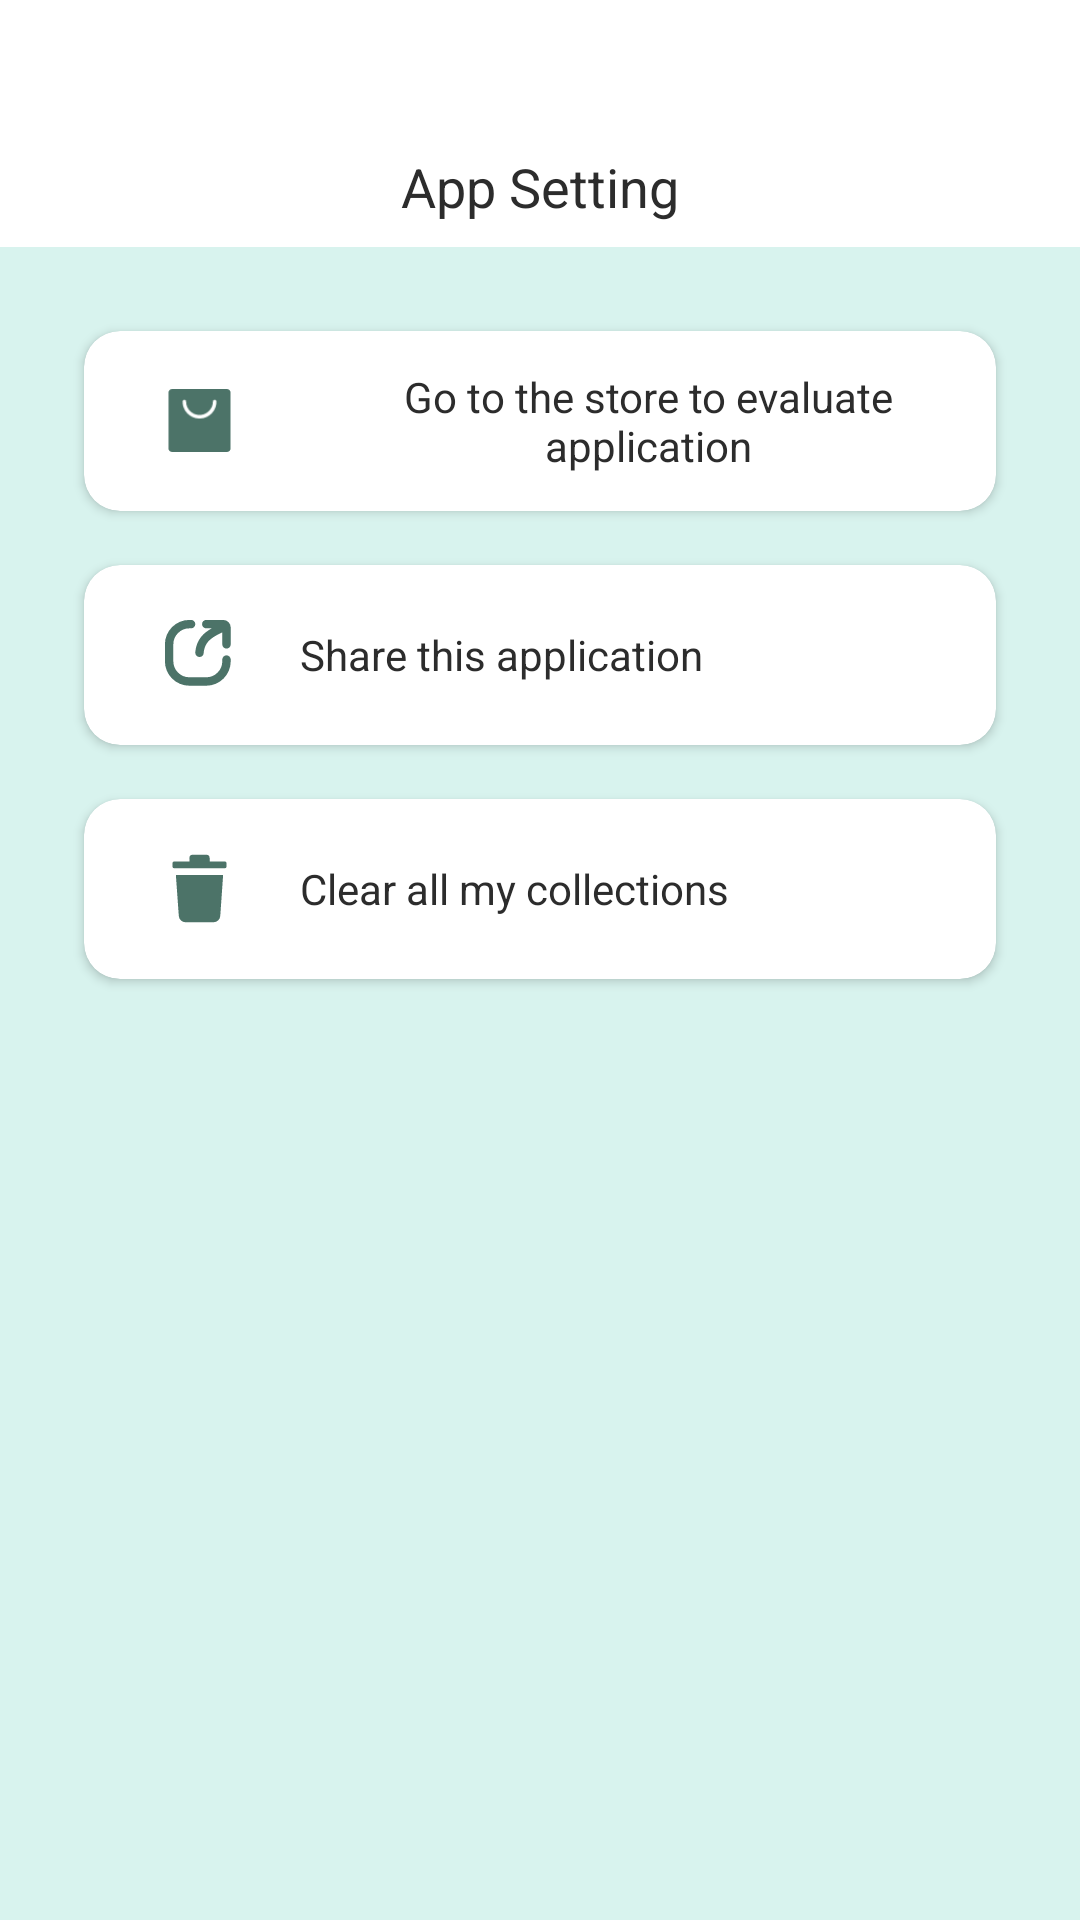

Icons on this 1080 x 1920 Android screen, each with the point to tap as [x,y]:
delete: [199,888]
